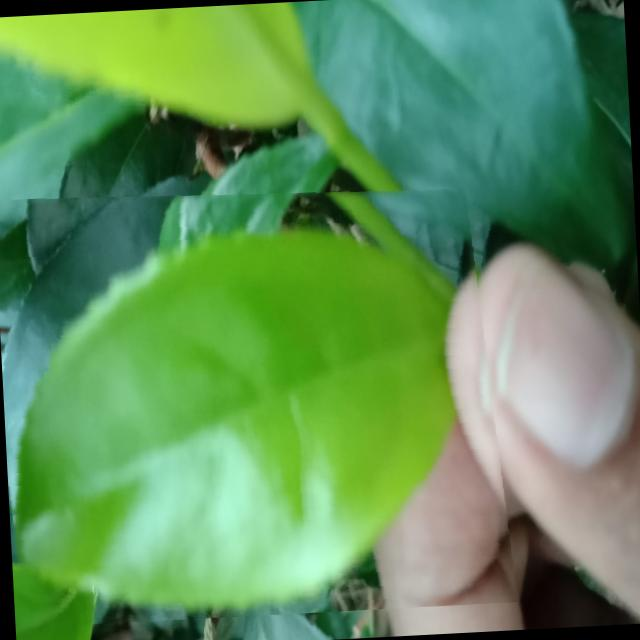Category C 4-7 days: (0, 171, 519, 627)
